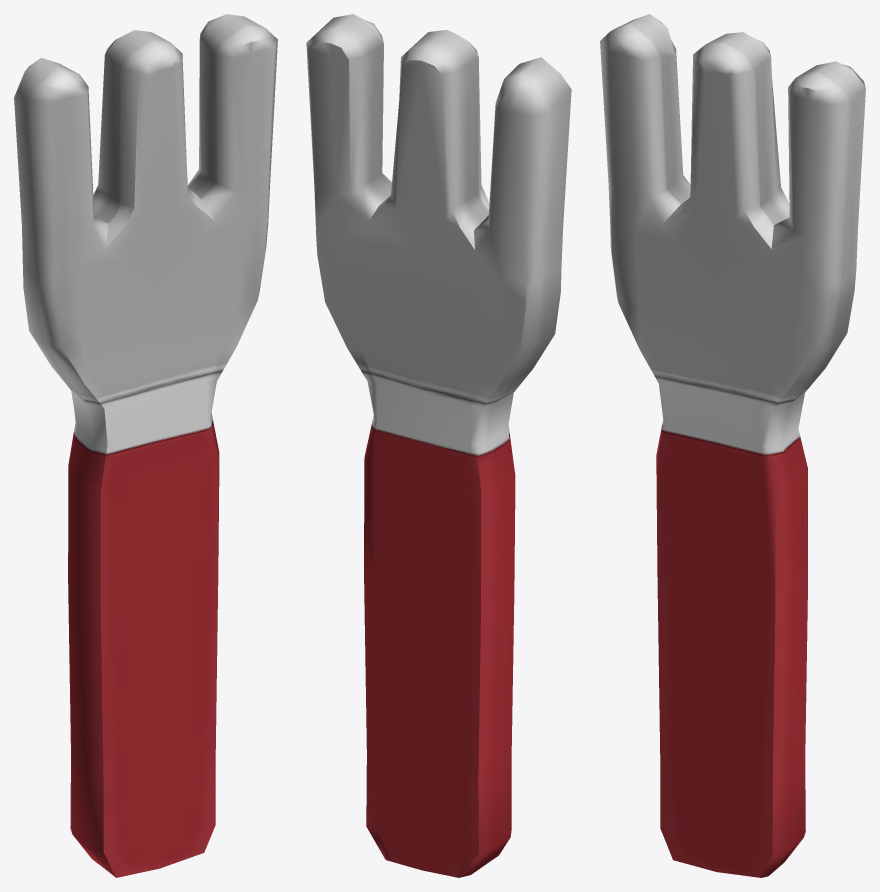
Rendered from fork.fbx.
The picture shows the model from 3 angles, left to right: view 1: azimuth 30°, elevation 25°; view 2: azimuth 150°, elevation 25°; view 3: azimuth 330°, elevation 25°; orthographic projection.
Parts seen in each view (by area): view 1: fork; view 2: fork; view 3: fork.
Part boxes in pixels (x1,y1,x2,y2): fork: (14, 14, 277, 877); fork: (306, 14, 571, 877); fork: (600, 14, 865, 877).
Bounding box in the file's own units: 44.45 × 140 × 10.57.
